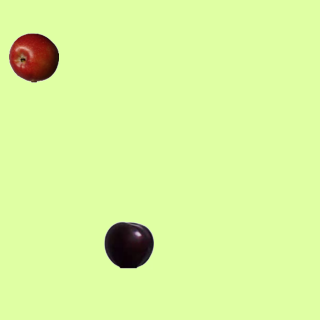Apple Braeburn: (8, 32, 58, 82)
Cherry Wax Black: (103, 219, 153, 269)
